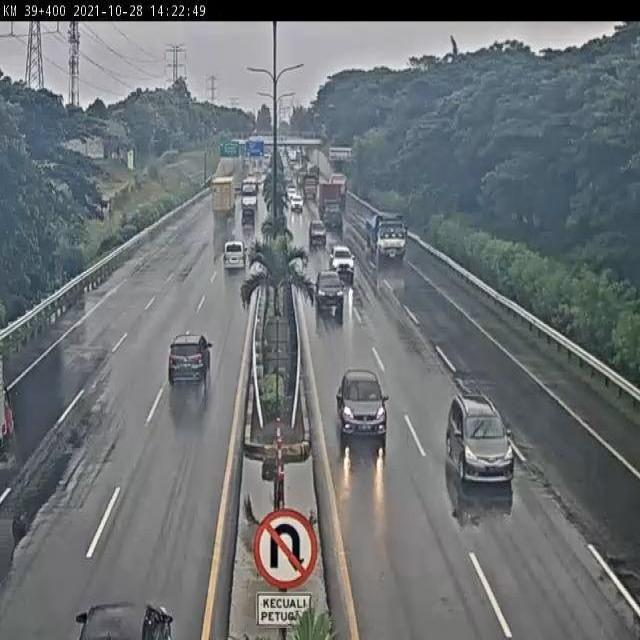car: (445, 395, 516, 485), (335, 368, 390, 441), (167, 333, 215, 388)
truck-l-: (366, 210, 410, 270)
truck-xl-: (319, 183, 348, 237)
